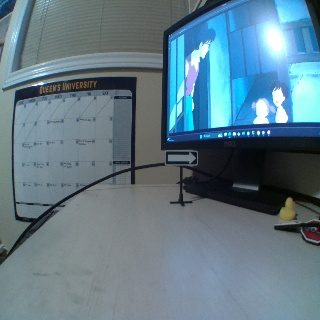sign_oneway_right: (164, 149, 196, 164)
